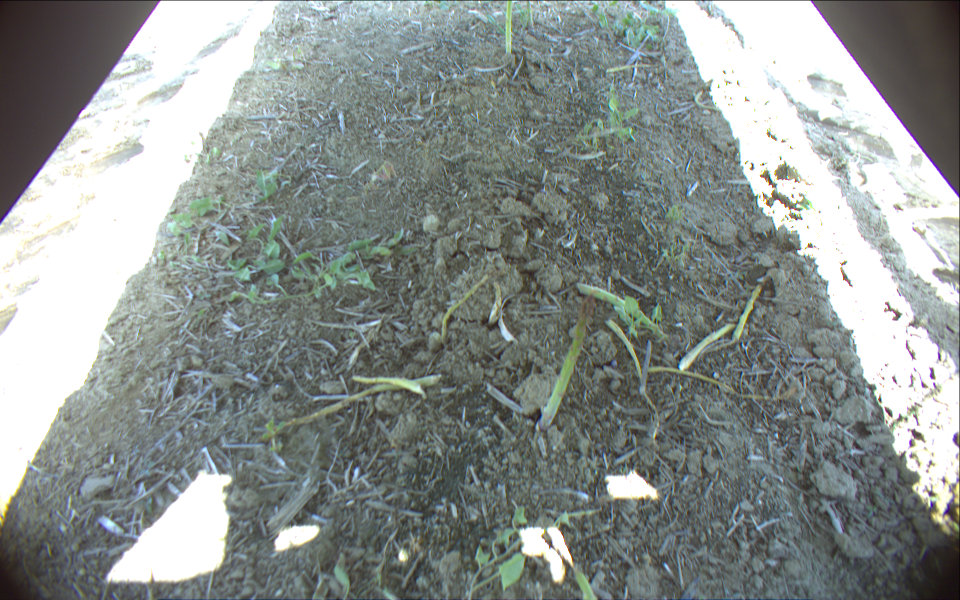aspa: (274, 376, 441, 435), (541, 294, 594, 427), (647, 369, 797, 400), (579, 282, 663, 334), (442, 276, 486, 343), (676, 325, 734, 373), (733, 285, 763, 339), (354, 376, 427, 398), (637, 342, 652, 393), (694, 87, 723, 113), (606, 60, 656, 74), (576, 571, 596, 600), (505, 1, 514, 54), (526, 1, 533, 32)
